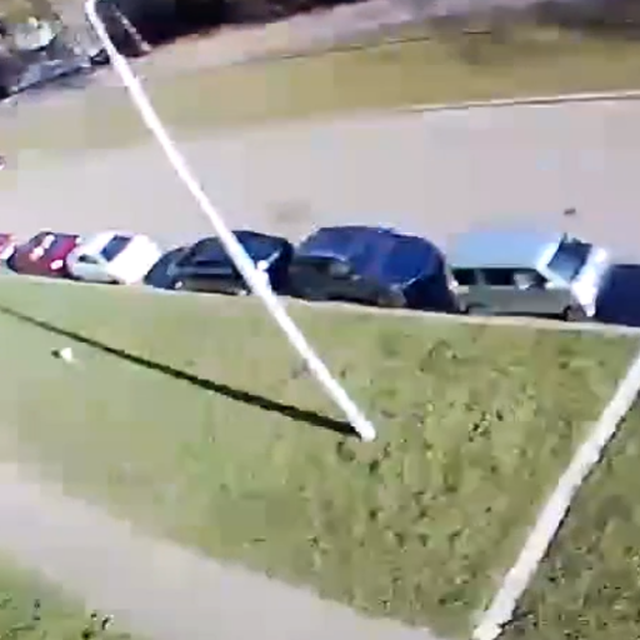car: (450, 230, 613, 319), (288, 223, 443, 307), (161, 230, 292, 291), (67, 233, 159, 283), (8, 232, 85, 276)
